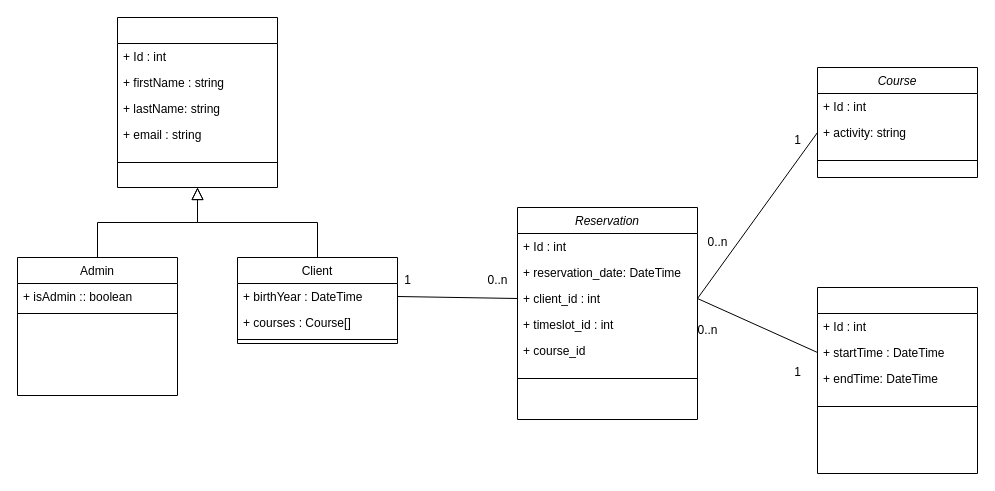
Some shapes in this 995 by 491 pixel diagram are drawn without their labels. The shapes that lost their labels are listed below. From the top down, each one's box as (x1, y1, x2, y2) in pixels, then its label:
(116, 16, 278, 188): User
(816, 286, 978, 474): TimeSlot
